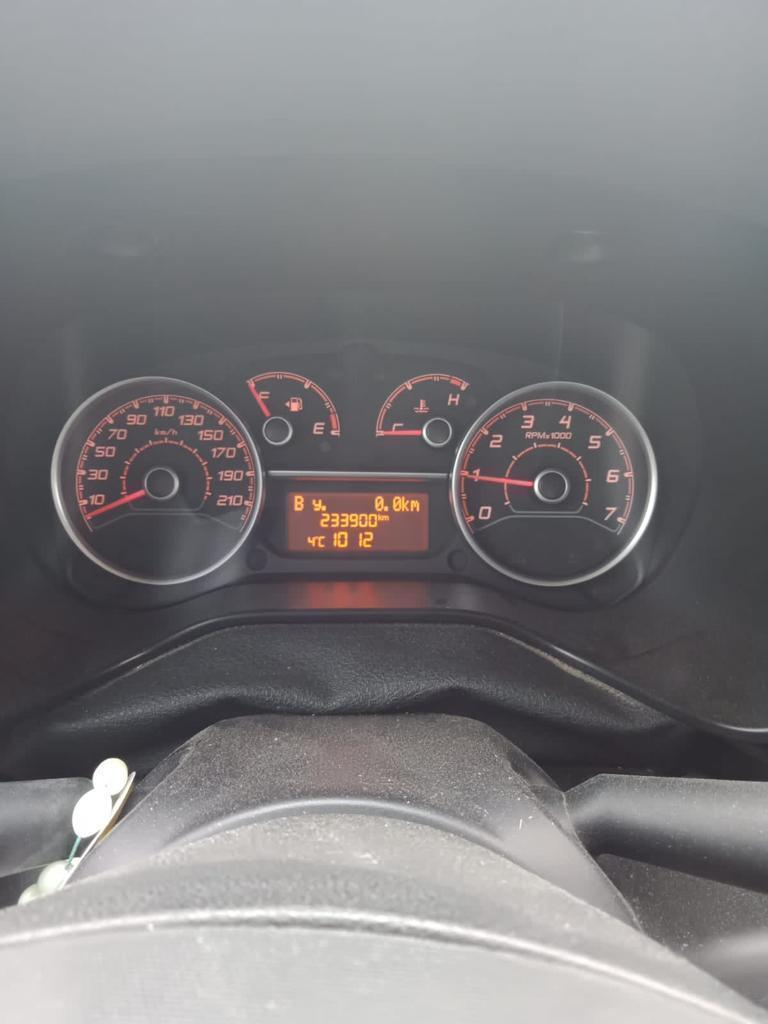,: (383, 504, 389, 512), (321, 504, 327, 511)
0: (337, 530, 347, 547), (373, 495, 383, 511), (392, 495, 401, 512), (358, 512, 368, 527), (368, 513, 377, 527)
1: (358, 531, 362, 549), (332, 531, 336, 547)
2: (362, 531, 373, 547), (320, 512, 329, 527)
3: (330, 511, 339, 527), (340, 511, 348, 527)
4: (307, 535, 315, 548)
9: (349, 512, 358, 527)
X: (294, 494, 304, 511), (401, 494, 409, 512), (311, 498, 321, 511), (410, 498, 419, 512), (317, 535, 325, 549), (382, 514, 389, 520), (377, 513, 382, 520)
odometer: (283, 489, 431, 556)
